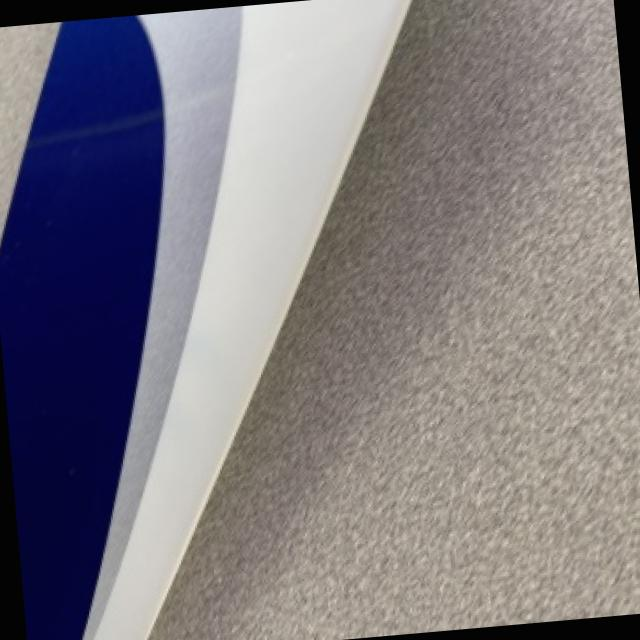healthy: (152, 0, 640, 640), (0, 0, 412, 640)
